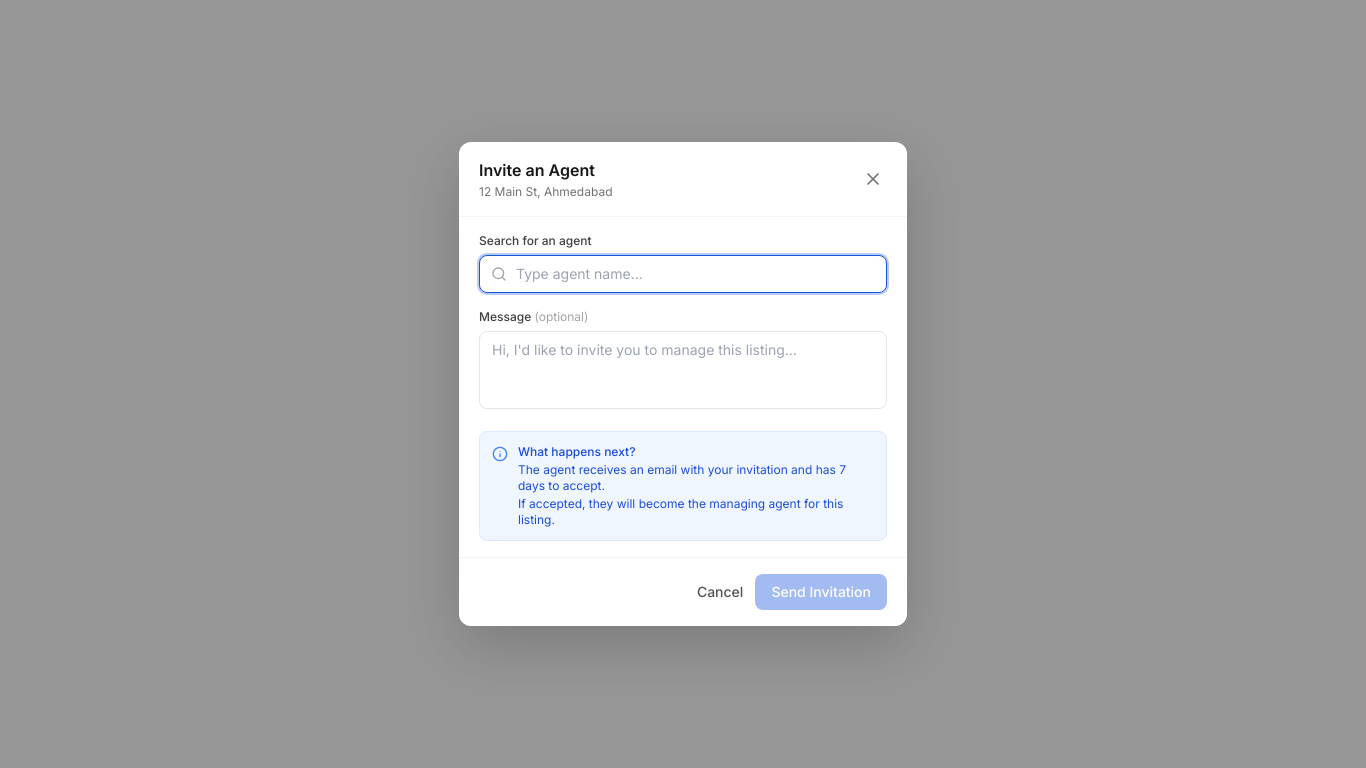
Test case: InviteAgentModal › selects agent and shows selected card
Type "Ra" into the field with placeholder "Type agent name…".
click(683, 274); type("Ra")  # box [479,255,887,293]
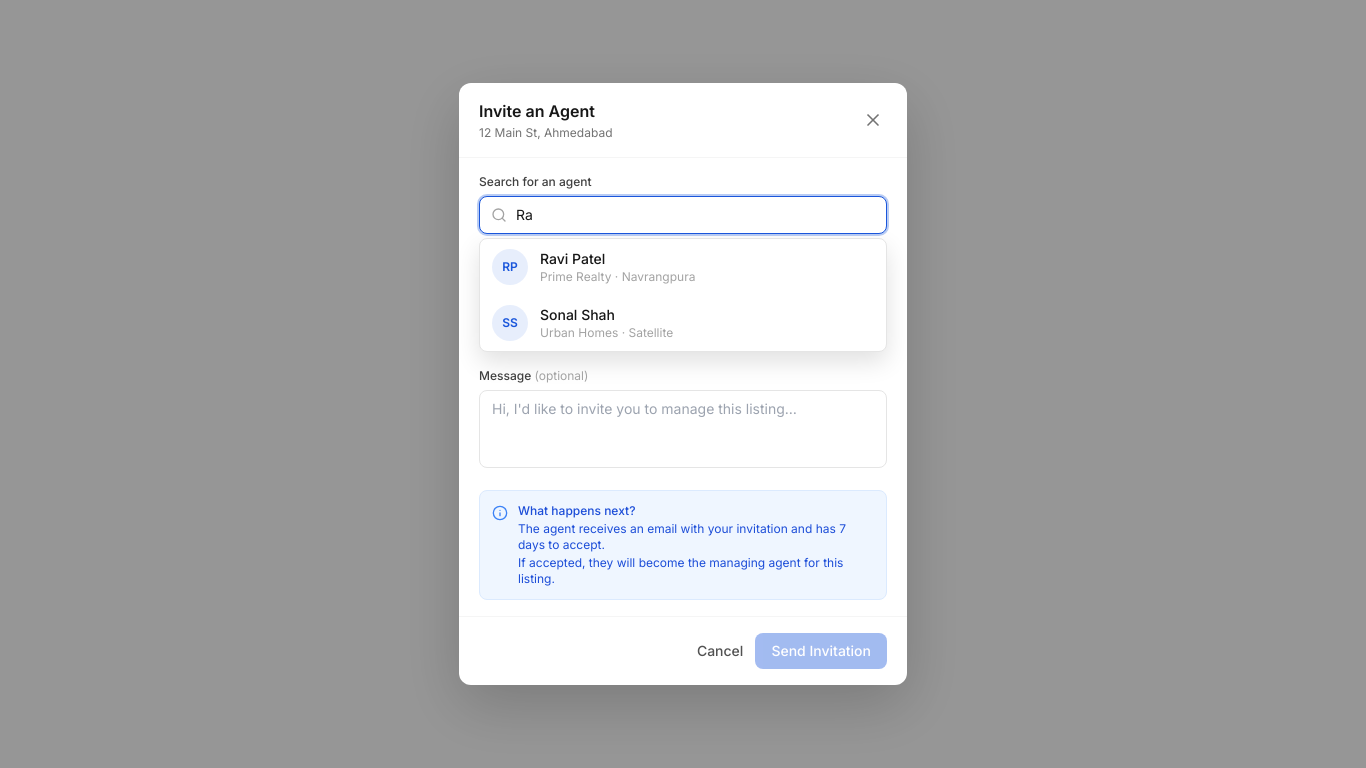
Expected: the text "Ravi Patel" is shown
Click the text "Ravi Patel".
click(573, 258)  # box [540,250,605,267]
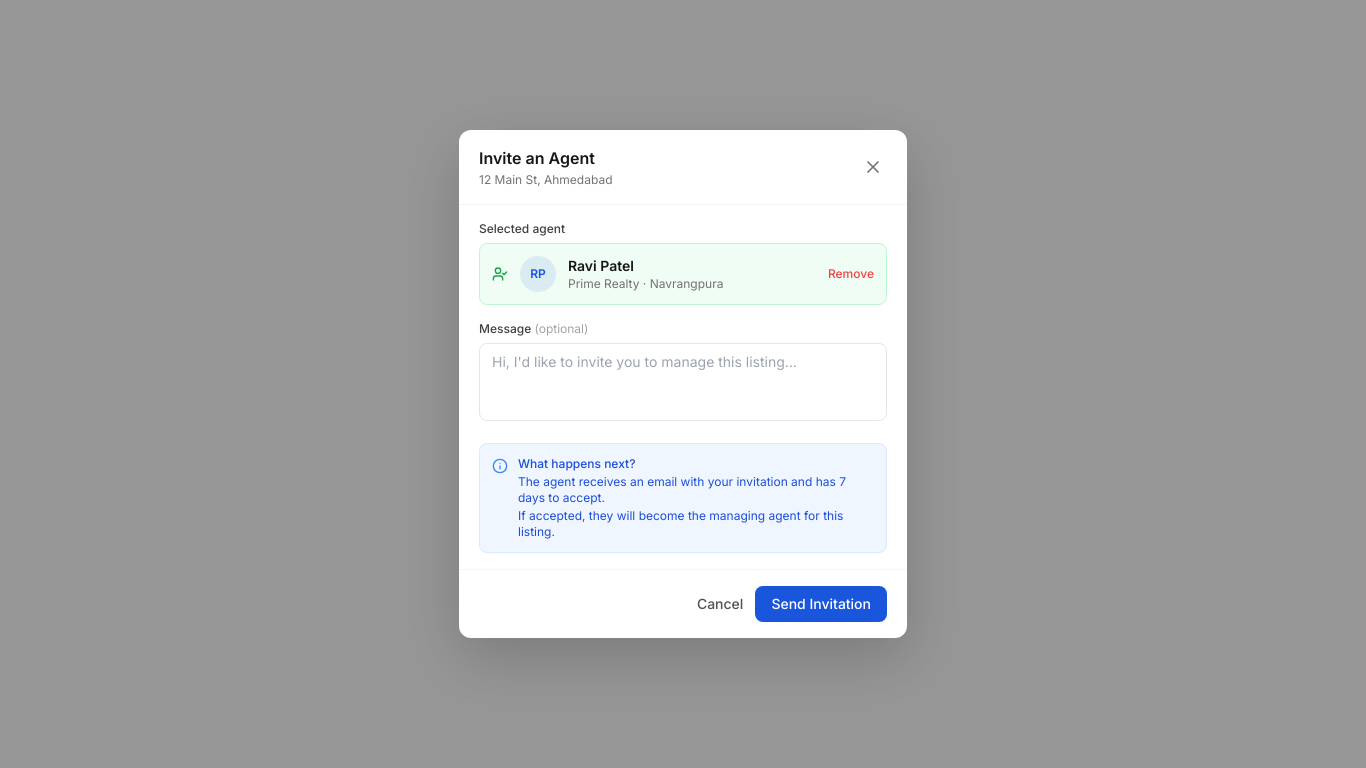
Expected: the text "Ravi Patel" is shown, [568,257,634,274]
Expected: the text "Selected agent" is shown, [479,221,565,236]
Expected: the button "Remove" is shown, [828,266,874,282]
